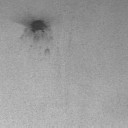iron sheet ash: (30, 20, 48, 34)
